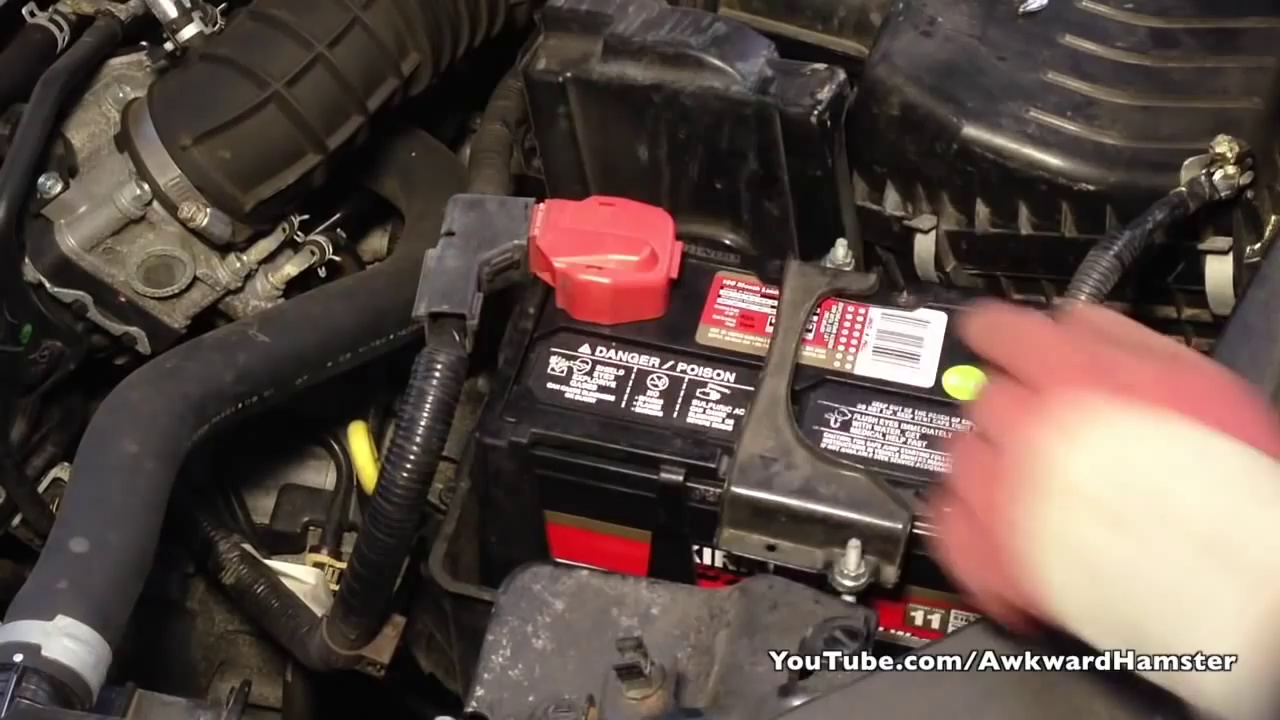battery: (486, 224, 989, 544)
pos_connected: (494, 177, 682, 342)
